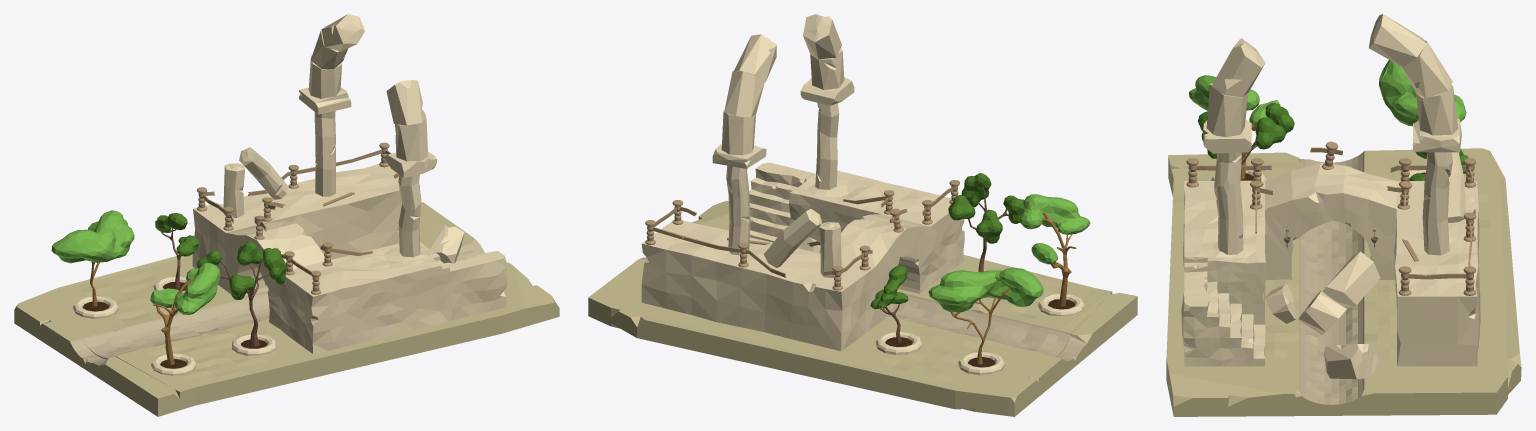
File: ruins.fbx
3 views of the same model, side by side, from view 1: azimuth 30°, elevation 25°; view 2: azimuth 150°, elevation 25°; view 3: azimuth 270°, elevation 25° (orthographic). The views are drawn at different scales.
Visible parts, largest first — view 1: ruins_platform, ruins_main_body, ruins_cylinder_colons, ruins_trees, ruins_railings; view 2: ruins_platform, ruins_main_body, ruins_cylinder_colons, ruins_trees, ruins_railings; view 3: ruins_platform, ruins_main_body, ruins_cylinder_colons, ruins_trees, ruins_railings.
Boxes of the visible parts, x1,y1,x2,y2 form: ruins_platform: [14, 202, 559, 416]; ruins_main_body: [192, 164, 507, 353]; ruins_cylinder_colons: [223, 14, 464, 263]; ruins_trees: [51, 210, 286, 375]; ruins_railings: [197, 142, 399, 294]; ruins_platform: [588, 201, 1137, 416]; ruins_main_body: [641, 162, 964, 351]; ruins_cylinder_colons: [712, 14, 854, 277]; ruins_trees: [870, 173, 1090, 375]; ruins_railings: [645, 180, 959, 290]; ruins_platform: [1166, 148, 1521, 416]; ruins_main_body: [1181, 163, 1480, 366]; ruins_cylinder_colons: [1203, 14, 1465, 379]; ruins_trees: [1189, 60, 1474, 180]; ruins_railings: [1186, 141, 1476, 295].
Size of the model in its own units: 1447 by 899 by 880.
